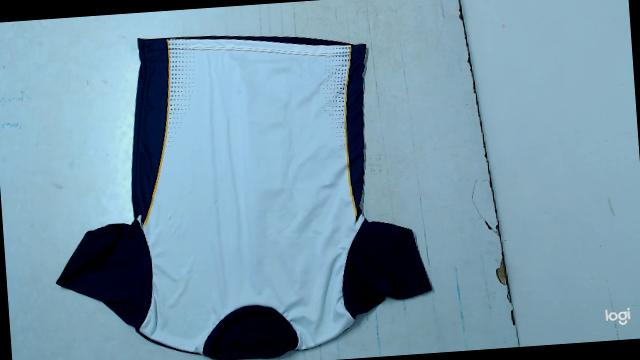new-garment: (57, 36, 431, 359)
